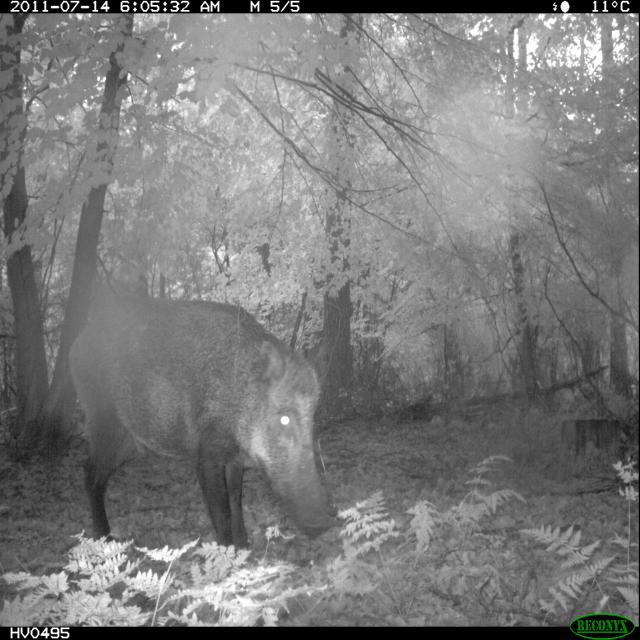boar: (16, 264, 320, 569)
